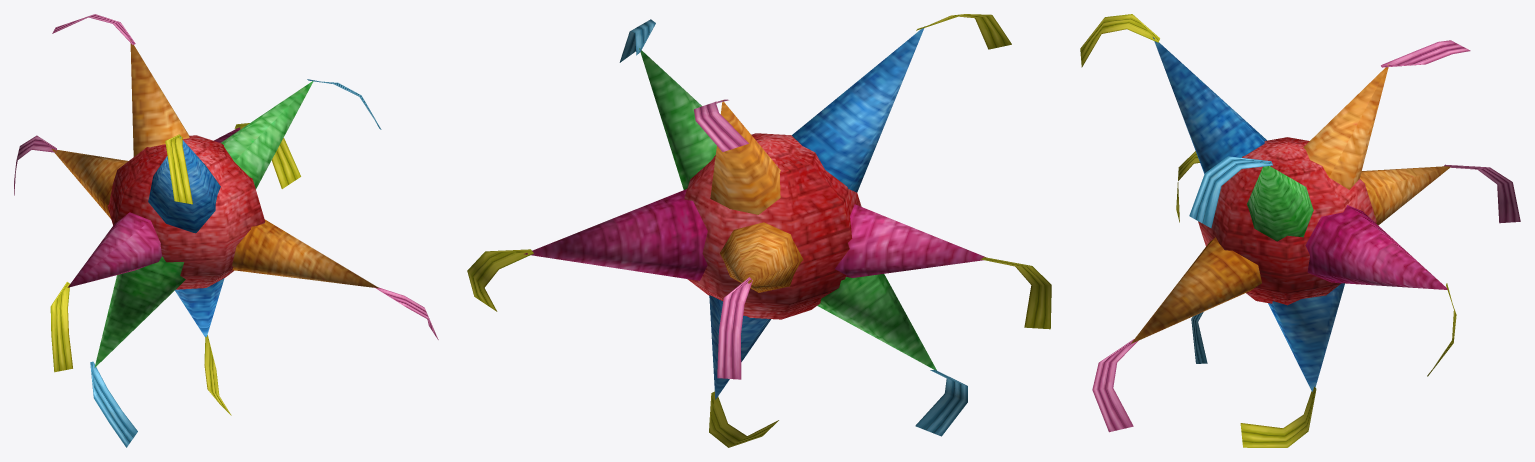
The model's file is Asterpinata.fbx.
3 views of the same model, side by side, from view 1: azimuth 30°, elevation 25°; view 2: azimuth 150°, elevation 25°; view 3: azimuth 270°, elevation 25° (orthographic). The views are drawn at different scales.
Parts seen in each view (by area): view 1: Asterpinata; view 2: Asterpinata; view 3: Asterpinata.
Boxes of the visible parts, x1,y1,x2,y2 form: Asterpinata: (14, 14, 438, 447); Asterpinata: (467, 14, 1051, 447); Asterpinata: (1080, 14, 1520, 447).
Size of the model in its own units: 3.07 by 2.8 by 2.96.
